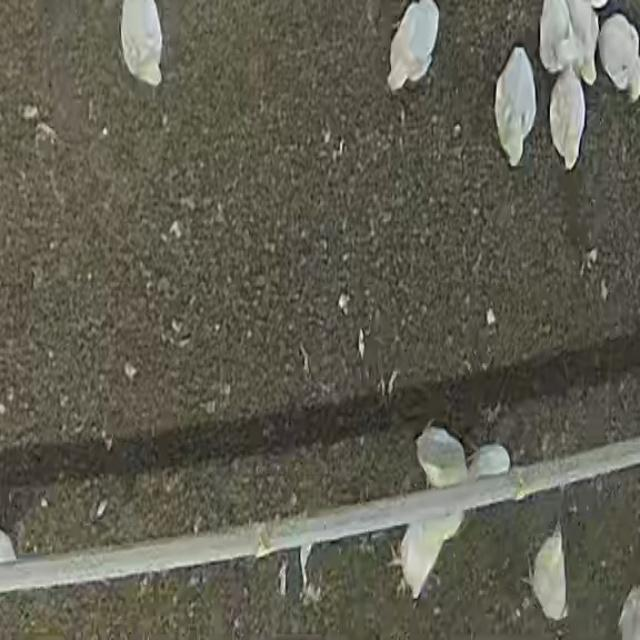chicken: (389, 516, 460, 600), (383, 0, 446, 94), (493, 45, 538, 166), (526, 520, 570, 622), (116, 0, 165, 88), (564, 0, 608, 92), (548, 66, 586, 170), (597, 14, 640, 99), (413, 423, 468, 488), (538, 0, 576, 72), (470, 442, 515, 484)
